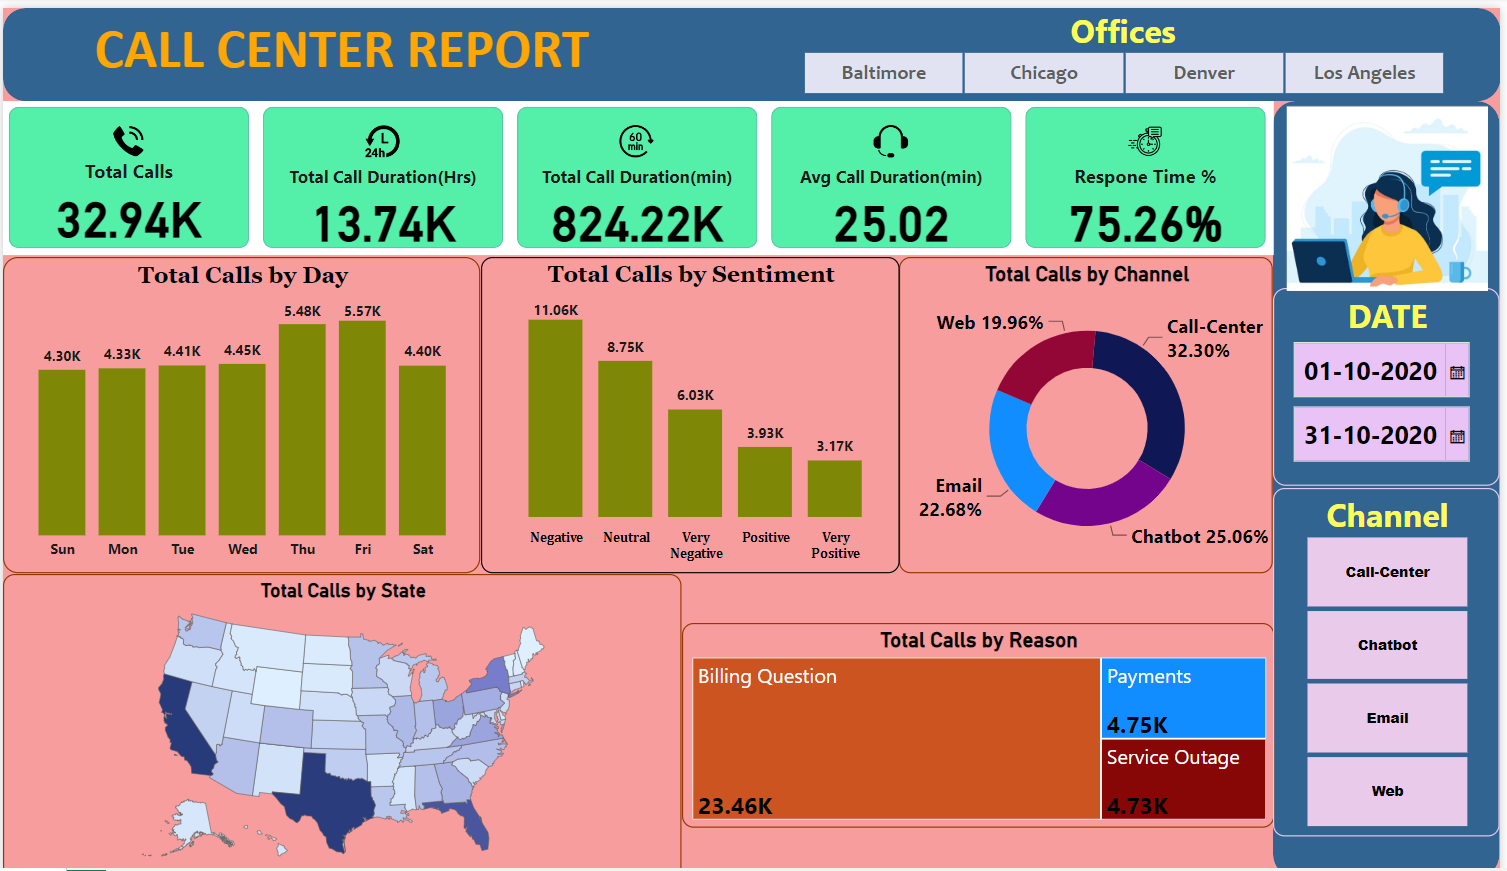

The dashboard page shown, as its layout file describes it:
{"tool":"powerbi","page":{"name":"Page 1","canvas":[1302,755],"ordinal":0},"visuals":[{"type":"shape","box":[0,0,1301.8,80.9],"z":0},{"type":"shape","box":[1104.5,80.9,197.3,674.5],"z":1000},{"type":"cardVisual","fields":{"Data":["Call Center_Call Center.Total Calls","Call Center_Call Center.Total Call Duration(Hrs)","Call Center_Call Center.Total Call Duration(min)","Call Center_Call Center.Avg Call Duration(min)","Call Center_Call Center.Respone Time %"]},"box":[0,80.9,1104.5,133.6],"z":2000},{"type":"textbox","box":[0,0,494,73],"z":3000},{"type":"columnChart","fields":{"Category":["Date Table.Day"],"Y":["Call Center_Call Center.Total Calls"]},"box":[0,216.4,415.5,275.5],"z":4000},{"type":"treemap","fields":{"Group":["Call Center_Call Center.Reason"],"Values":["Call Center_Call Center.Total Calls"]},"box":[590,535,514,178],"z":5000},{"type":"donutChart","fields":{"Category":["Call Center_Call Center.Channel"],"Y":["Call Center_Call Center.Total Calls"]},"box":[779.1,216.4,325.5,275.5],"z":6000},{"type":"columnChart","fields":{"Category":["Call Center_Call Center.Sentiment"],"Y":["Call Center_Call Center.Total Calls"]},"box":[415.5,216.4,363.6,275.5],"z":7000},{"type":"slicer","title":"DATE","fields":{"Values":["Date Table.Date"]},"box":[1104.5,243.6,197.3,171.8],"z":8000},{"type":"slicer","title":"Channel","fields":{"Values":["Call Center_Call Center.Channel"]},"box":[1104.5,417.3,197.3,302.7],"z":9000},{"type":"slicer","title":"Offices","fields":{"Values":["Call Center_Call Center.Call-Centres City"]},"box":[697,0,605,81],"z":10000},{"type":"shapeMap","fields":{"Category":["Call Center_Call Center.State"],"Value":["Call Center_Call Center.Total Calls"]},"box":[0,491.8,590,263.6],"z":11000},{"type":"image","box":[1110.9,72.7,185.5,185.5],"z":12000},{"type":"gauge","title":"Rating","fields":{"Y":["Avg(Call Center_Call Center.Rating)"],"MinValue":["Min(Call Center_Call Center.Rating)1"],"MaxValue":["Max(Call Center_Call Center.Rating)2"]},"box":[552,0,154,81],"z":12001}]}

Visuals, with their boxes in screenshot pixels (x1, y1, x2, y2), scaled from the page's 1302x755 canvas onto the 1507x871 screenshot:
shape: 0, 0, 1506, 93
shape: 1278, 93, 1506, 870
cardVisual - Call Center_Call Center.Total Calls x Call Center_Call Center.Total Call Duration(Hrs): 0, 93, 1278, 247
textbox: 0, 0, 572, 84
columnChart - Date Table.Day x Call Center_Call Center.Total Calls: 0, 250, 481, 567
treemap - Call Center_Call Center.Reason x Call Center_Call Center.Total Calls: 683, 617, 1278, 823
donutChart - Call Center_Call Center.Channel x Call Center_Call Center.Total Calls: 902, 250, 1279, 567
columnChart - Call Center_Call Center.Sentiment x Call Center_Call Center.Total Calls: 481, 250, 902, 567
"DATE" slicer: 1278, 281, 1506, 479
"Channel" slicer: 1278, 481, 1506, 831
"Offices" slicer: 807, 0, 1506, 93
shapeMap - Call Center_Call Center.State x Call Center_Call Center.Total Calls: 0, 567, 683, 870
image: 1286, 84, 1501, 298
"Rating" gauge: 639, 0, 817, 93
